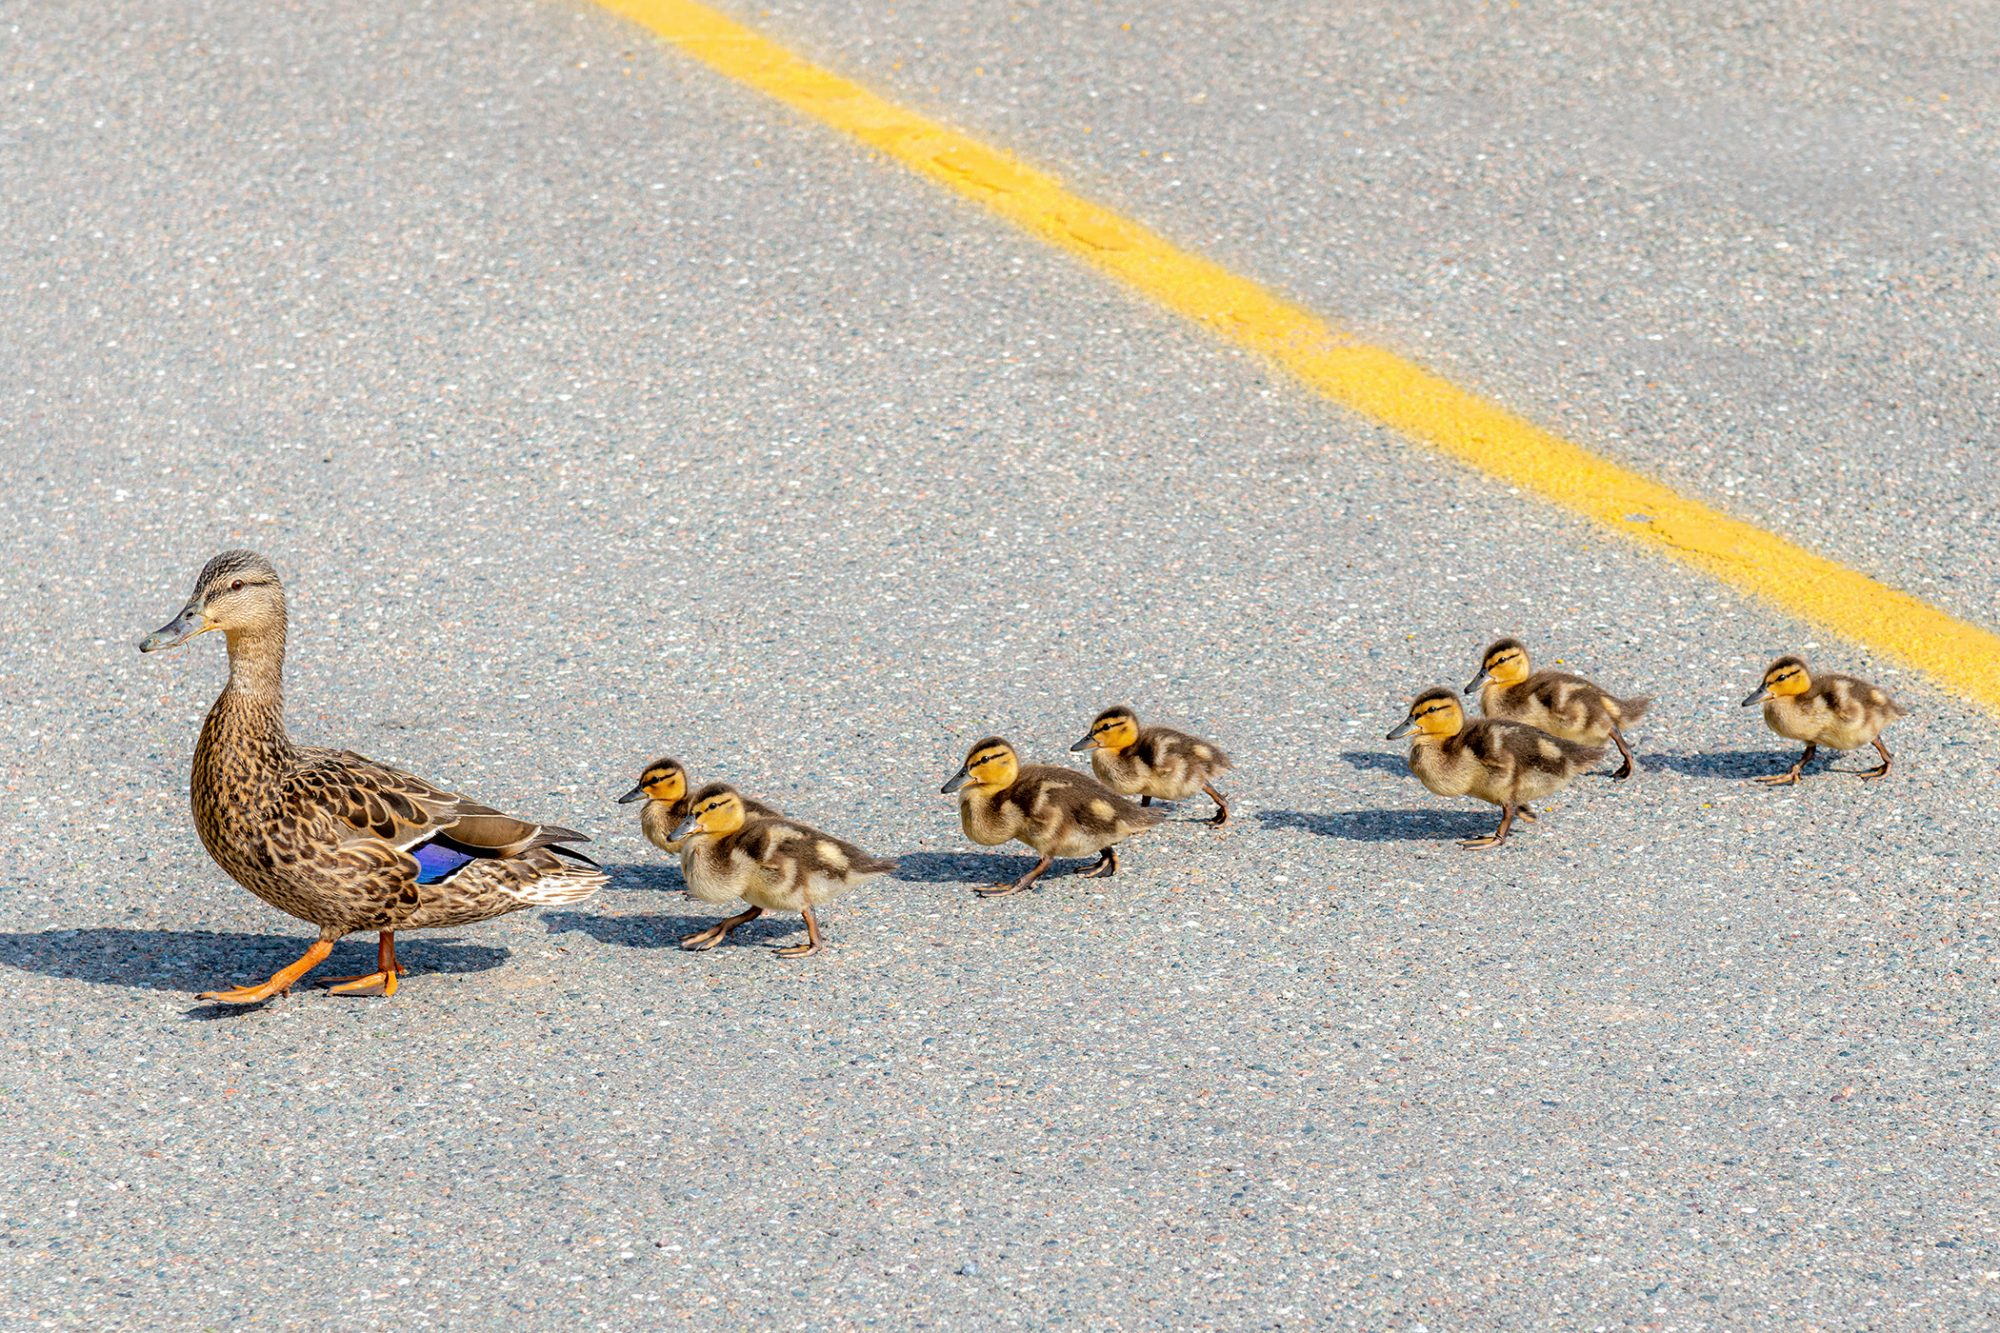duck: (120, 542, 620, 1019)
duckling: (932, 739, 1170, 902), (1353, 696, 1587, 860), (1451, 634, 1680, 800), (687, 786, 888, 969), (622, 760, 854, 896), (1740, 647, 1917, 791), (1077, 707, 1254, 841)
